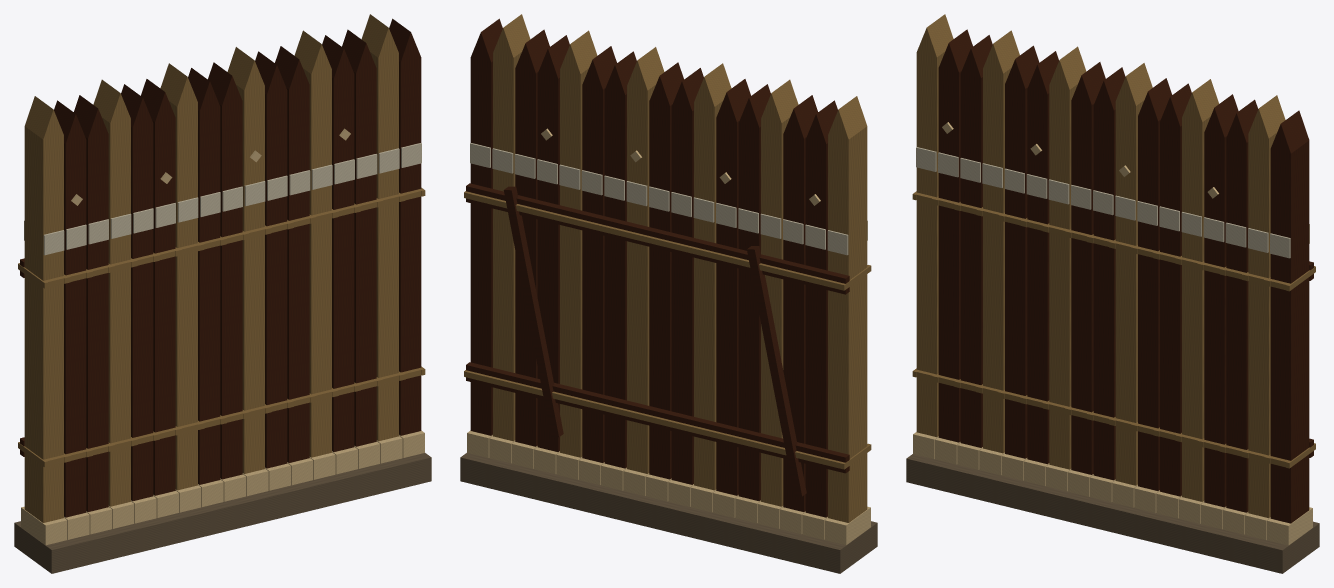
Rendered from Berber_Palisade_Age4_gapfill_4m.fbx.
3 renders of one model, left to right at view 1: azimuth 30°, elevation 25°; view 2: azimuth 150°, elevation 25°; view 3: azimuth 330°, elevation 25°, orthographic.
Visible parts, largest first — view 1: palm_split_post.041, palm_split_post.043, palm_split_post.039, palm_split_post.036, palm_split_post.042, palm_split_post.046, earth_seat.006, post_earth_socket.006, palm_split_post.045, palm_split_post.048, neutral_owner_band.006, front_lashing.006 (+1 smaller); view 2: palm_split_post.043, palm_split_post.036, palm_split_post.039, palm_split_post.041, palm_split_post.046, palm_split_post.042, earth_seat.006, continuous_rear_tie.006, post_earth_socket.006, palm_split_post.045, palm_split_post.048, neutral_owner_band.006 (+3 smaller); view 3: palm_split_post.043, palm_split_post.039, palm_split_post.041, palm_split_post.036, palm_split_post.042, palm_split_post.046, earth_seat.006, post_earth_socket.006, palm_split_post.045, palm_split_post.048, neutral_owner_band.006, front_lashing.006 (+1 smaller).
Boxes of the visible parts, x1,y1,x2,y2 form: palm_split_post.041: (74, 29, 376, 511); palm_split_post.043: (121, 18, 421, 501); palm_split_post.039: (54, 35, 354, 517); palm_split_post.036: (24, 30, 331, 522); palm_split_post.042: (93, 14, 398, 506); palm_split_post.046: (188, 46, 309, 484); earth_seat.006: (14, 453, 431, 573); post_earth_socket.006: (21, 430, 424, 545); palm_split_post.045: (160, 63, 197, 490); palm_split_post.048: (227, 47, 264, 473); neutral_owner_band.006: (24, 143, 421, 255); front_lashing.006: (43, 189, 423, 466); palm_split_post.043: (470, 18, 770, 501); palm_split_post.036: (560, 30, 867, 522); palm_split_post.039: (537, 35, 837, 517); palm_split_post.041: (515, 29, 817, 511); palm_split_post.046: (582, 46, 703, 484); palm_split_post.042: (493, 14, 798, 506); earth_seat.006: (460, 453, 877, 573); continuous_rear_tie.006: (466, 183, 849, 473); post_earth_socket.006: (467, 430, 870, 545); palm_split_post.045: (694, 63, 731, 490); palm_split_post.048: (627, 47, 664, 473); neutral_owner_band.006: (470, 143, 867, 255); palm_split_post.043: (1005, 45, 1309, 523); palm_split_post.039: (938, 29, 1238, 507); palm_split_post.041: (960, 35, 1258, 512); palm_split_post.036: (916, 14, 1218, 501); palm_split_post.042: (983, 30, 1285, 518); palm_split_post.046: (1071, 62, 1191, 496); earth_seat.006: (906, 454, 1319, 573); post_earth_socket.006: (913, 432, 1312, 545); palm_split_post.045: (1049, 46, 1086, 469); palm_split_post.048: (1115, 63, 1152, 485); neutral_owner_band.006: (916, 147, 1309, 258); front_lashing.006: (914, 193, 1290, 467).
Bounding box in the file's own units: 401 × 458 × 68.29.
Materials: 5 (5 with a texture image).
